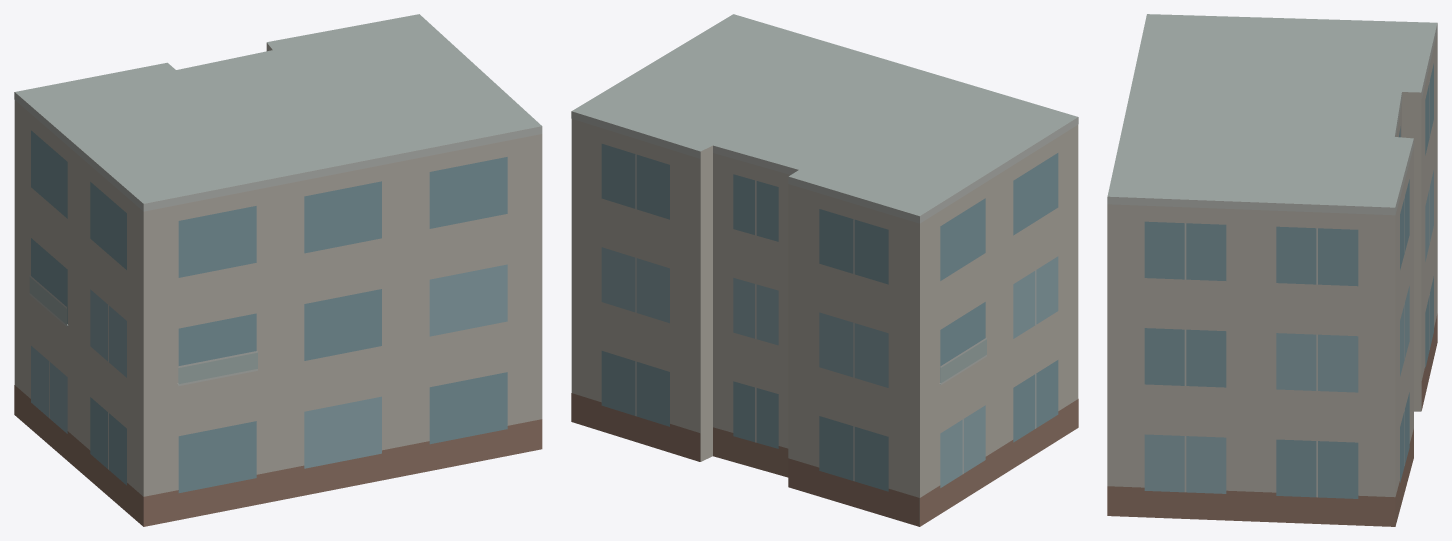
The model's file is survey-upis-32658213.glb.
The picture shows the model from 3 angles, left to right: view 1: azimuth 30°, elevation 25°; view 2: azimuth 150°, elevation 25°; view 3: azimuth 270°, elevation 25°; orthographic projection. The views are drawn at different scales.
Visible parts, largest first — view 1: survey-upis-32658213.tmp; view 2: survey-upis-32658213.tmp; view 3: survey-upis-32658213.tmp.
Boxes of the visible parts, x1,y1,x2,y2 form: survey-upis-32658213.tmp: (14,14,542,526); survey-upis-32658213.tmp: (571,14,1078,526); survey-upis-32658213.tmp: (1107,14,1437,526).
Bounding box in the file's own units: 13.28 × 10.2 × 9.57.
